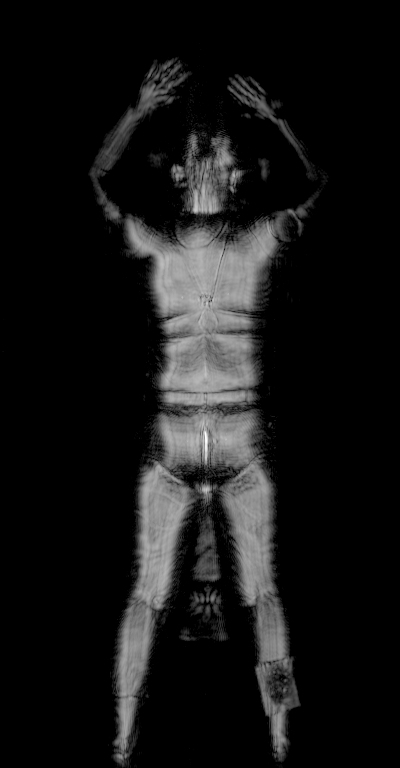head: (166, 124, 247, 200)
others: (251, 655, 304, 720), (264, 206, 306, 248)
person: (87, 59, 321, 768)
